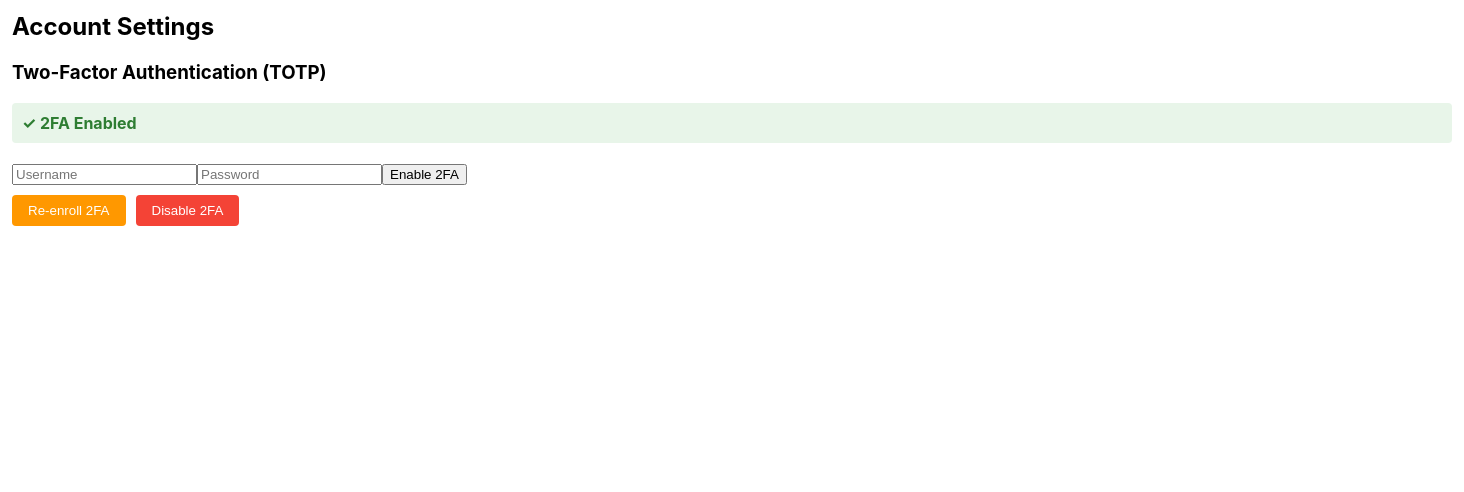
Test: Account 2FA Enrollment › displays error message on disable failure
# Click disable button
Click the button "Disable 2FA". click: {"x": 187, "y": 210}
box: [136,194,239,226]
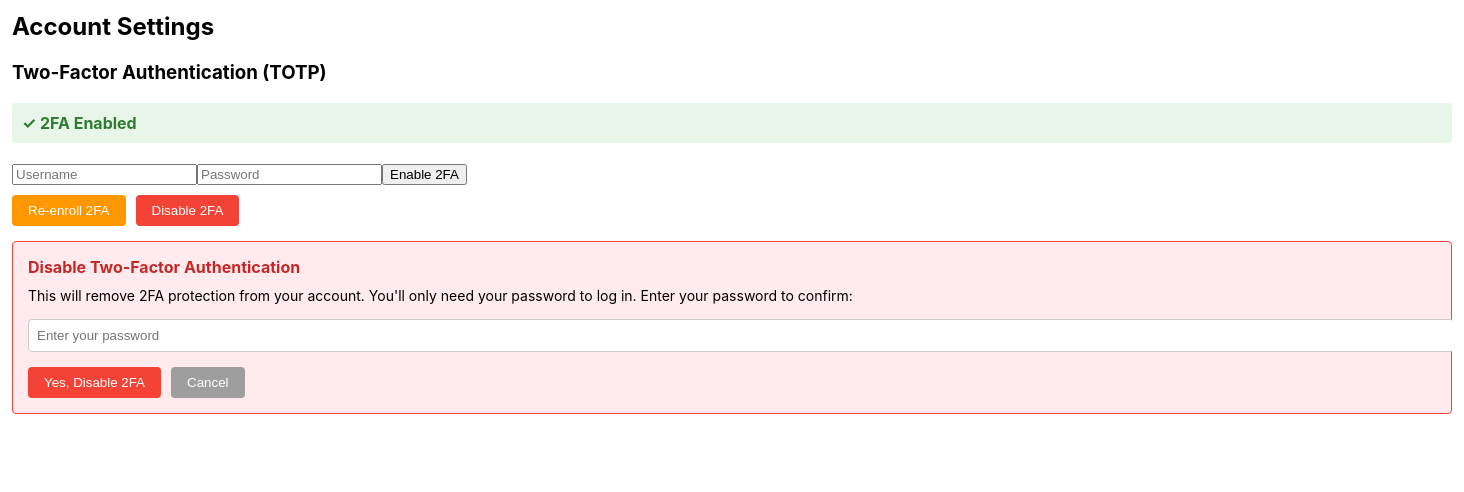
# Fill in credentials
Type "alice" into the field with placeholder "Username". click: {"x": 104, "y": 174}
box: [12,164,197,184]
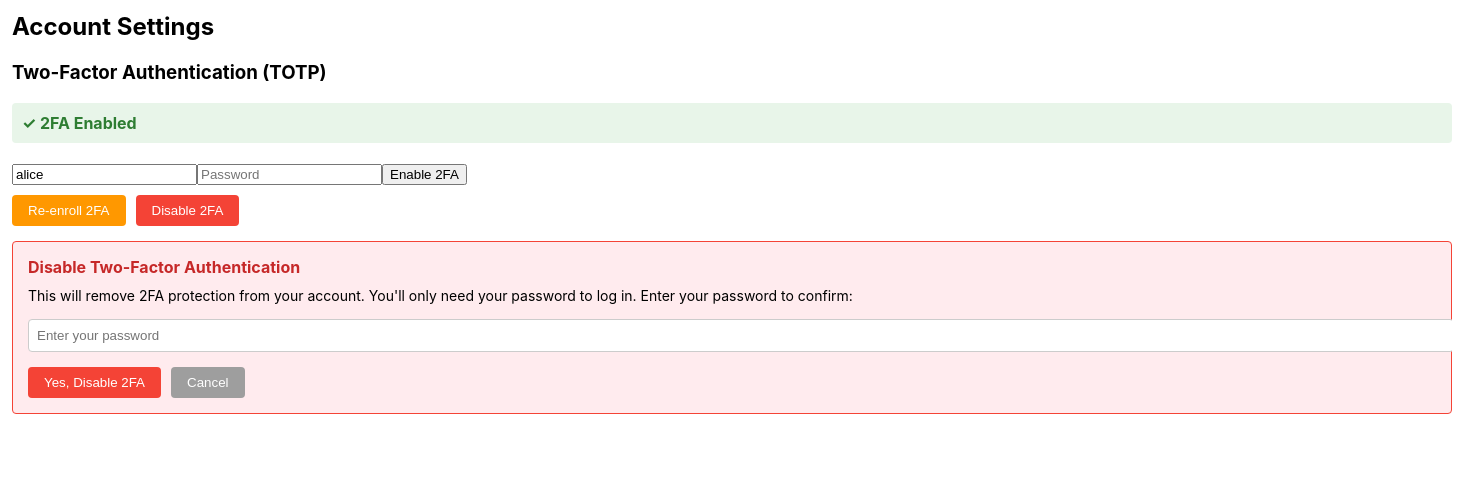
Type "wrong" into the password field with placeholder "Enter your password". click: {"x": 740, "y": 335}
box: [28,318,1452,352]
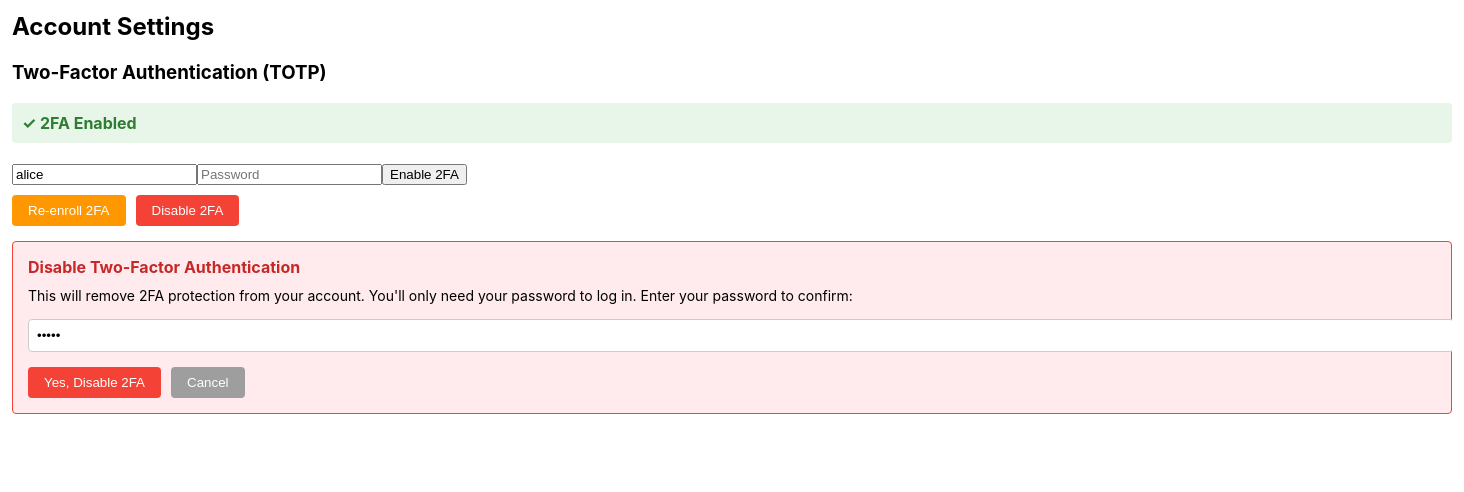
# Confirm disable
Click the button "Yes, Disable 2FA". click: {"x": 94, "y": 382}
box: [28,366,161,398]
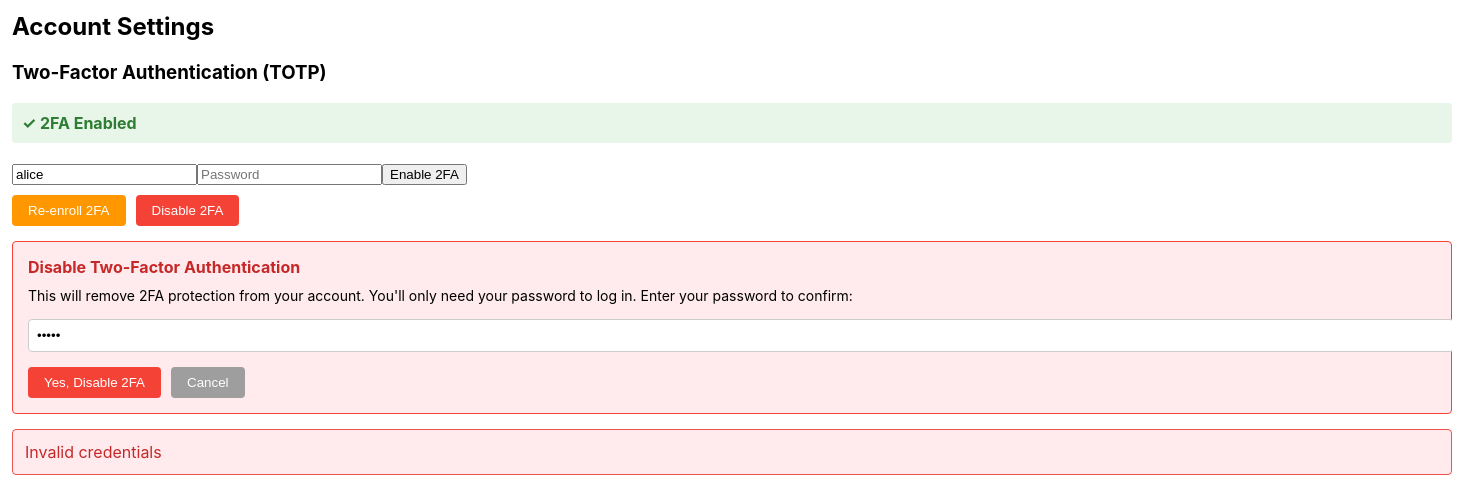
expect the text "Invalid credentials" is shown: met, box [25,442,162,462]
